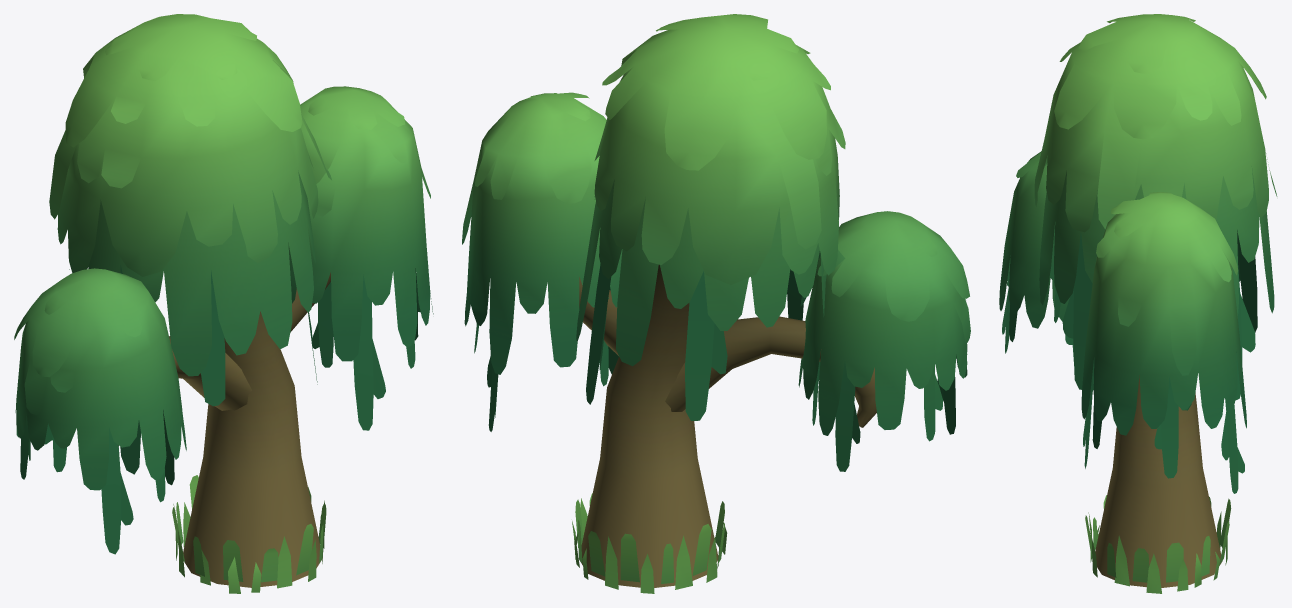
Rendered from 3D_Zelkovatree.fbx.
The picture shows the model from 3 angles, left to right: view 1: azimuth 30°, elevation 25°; view 2: azimuth 150°, elevation 25°; view 3: azimuth 270°, elevation 25°; orthographic projection. The views are drawn at different scales.
Visible parts, largest first — view 1: Big_Tree; view 2: Big_Tree; view 3: Big_Tree.
Boxes of the visible parts, x1,y1,x2,y2 form: Big_Tree: (14, 14, 433, 593); Big_Tree: (462, 14, 970, 593); Big_Tree: (999, 14, 1277, 593).
Size of the model in its own units: 5140 by 6132 by 3037.
Materials: 1 (1 with a texture image).
